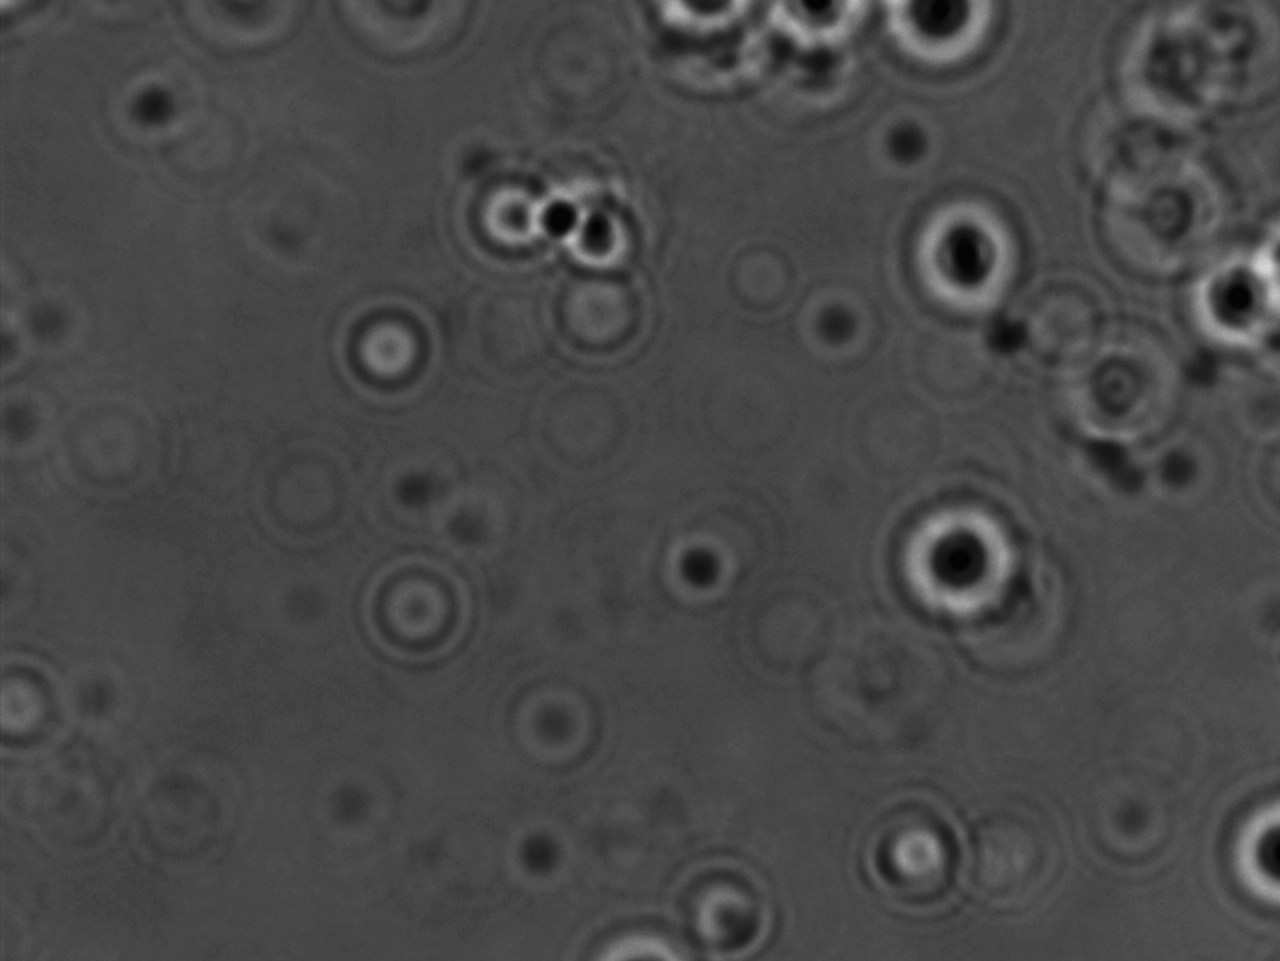depth:-24: (883, 478, 1043, 637), (893, 180, 1039, 322)
